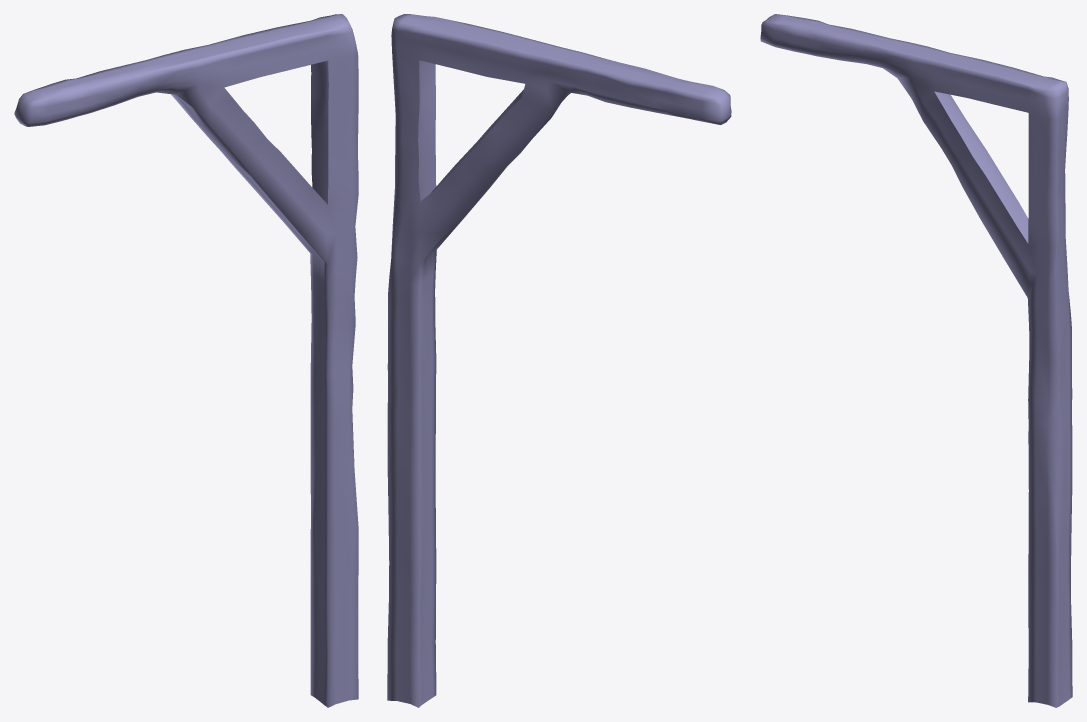
The model's file is Trainpole low.FBX.
3 renders of one model, left to right at view 1: azimuth 30°, elevation 25°; view 2: azimuth 150°, elevation 25°; view 3: azimuth 330°, elevation 25°, orthographic. The views are drawn at different scales.
Parts seen in each view (by area): view 1: 3D_GEN_HAZ_TRAINPOLELOW003; view 2: 3D_GEN_HAZ_TRAINPOLELOW003; view 3: 3D_GEN_HAZ_TRAINPOLELOW003.
Boxes of the visible parts, bbox=[...] form: 3D_GEN_HAZ_TRAINPOLELOW003: bbox=[14, 14, 358, 707]; 3D_GEN_HAZ_TRAINPOLELOW003: bbox=[387, 14, 731, 707]; 3D_GEN_HAZ_TRAINPOLELOW003: bbox=[760, 14, 1072, 707].
Bounding box in the file's own units: 2.63 × 5.15 × 0.2494.
